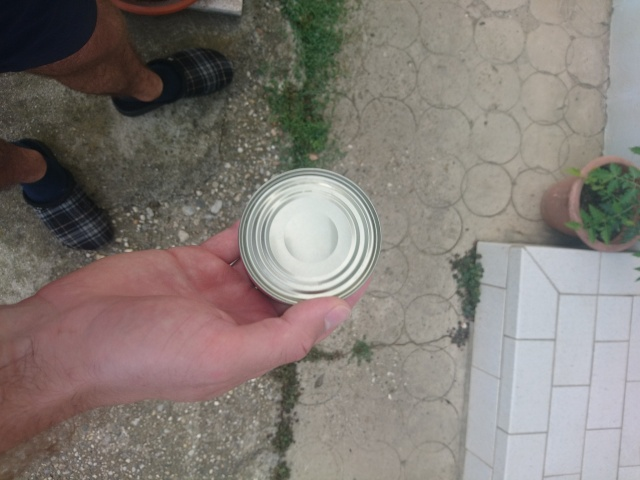Podravka Luncheon Meat 150g: (234, 164, 385, 309)
